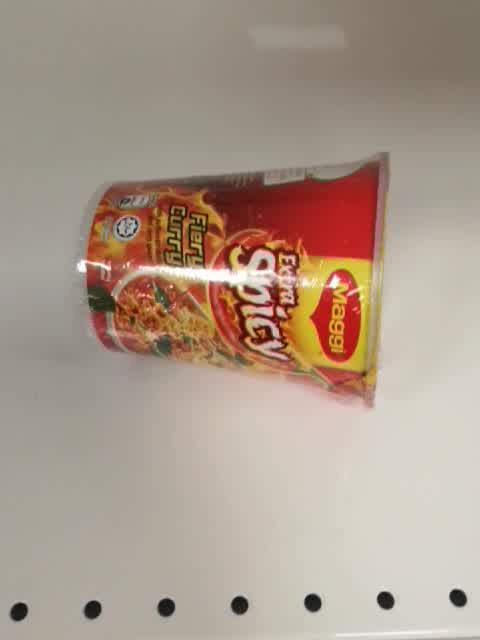maggi: (75, 151, 399, 411)
